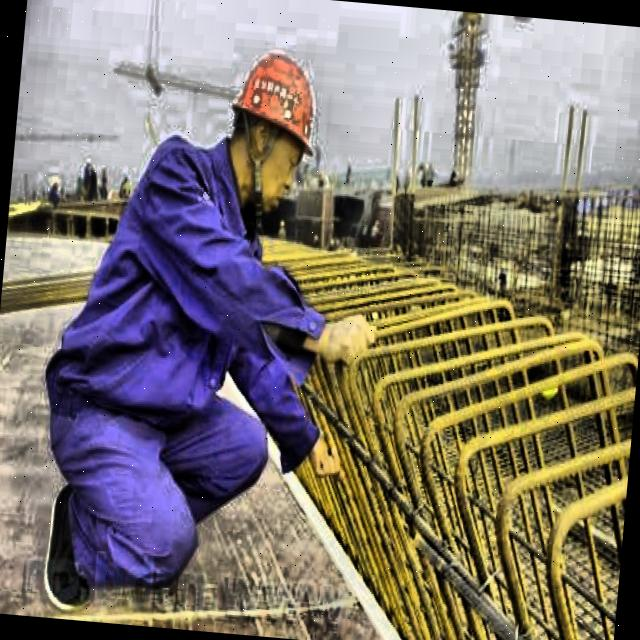helmet: (211, 36, 336, 210)
